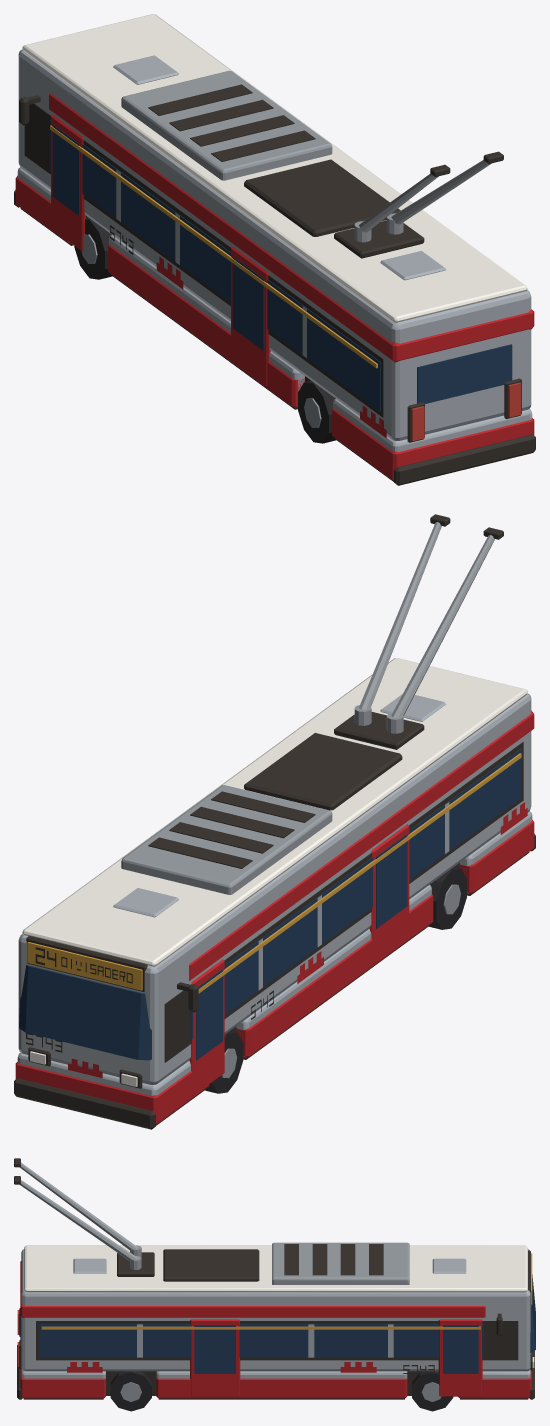
Rendered from muni-trolley-40-24-divisadero.glb.
The picture shows the model from 3 angles, top to bottom: view 1: azimuth 30°, elevation 25°; view 2: azimuth 150°, elevation 25°; view 3: azimuth 270°, elevation 25°; orthographic projection. The views are drawn at different scales.
Parts seen in each view (by area): view 1: Toy_silver, Toy_white, Toy_munired, Toy_ink, Toy_glass, Toy_steel, Toy_tire, Toy_mustard_Glow, Toy_red_Glow; view 2: Toy_silver, Toy_white, Toy_glass, Toy_ink, Toy_munired, Toy_steel, Toy_mustard_Glow, Toy_tire; view 3: Toy_silver, Toy_munired, Toy_glass, Toy_white, Toy_ink, Toy_steel, Toy_tire, Toy_mustard_Glow.
Part boxes in pixels (x1,y1,x2,y2): Toy_silver: (17,49,532,451); Toy_white: (22,14,527,322); Toy_munired: (15,93,534,480); Toy_ink: (14,84,535,485); Toy_glass: (49,120,512,411); Toy_steel: (81,70,491,427); Toy_tire: (74,216,336,443); Toy_mustard_Glow: (50,125,377,368); Toy_red_Glow: (411,382,521,441); Toy_silver: (17,693,532,1095); Toy_white: (22,658,527,966); Toy_glass: (19,748,521,1060); Toy_ink: (14,514,535,1129); Toy_munired: (15,710,534,1124); Toy_steel: (121,522,494,1078); Toy_mustard_Glow: (27,753,521,993); Toy_tire: (205,867,466,1093); Toy_silver: (21,1249,530,1378); Toy_munired: (20,1261,531,1398); Toy_glass: (20,1275,535,1373); Toy_white: (24,1245,527,1292); Toy_ink: (14,1158,534,1399); Toy_steel: (20,1162,441,1401); Toy_tire: (110,1371,453,1411); Toy_mustard_Glow: (41,1253,532,1329).
Bounding box in the file's own units: 3.3 × 5.79 × 12.49.
